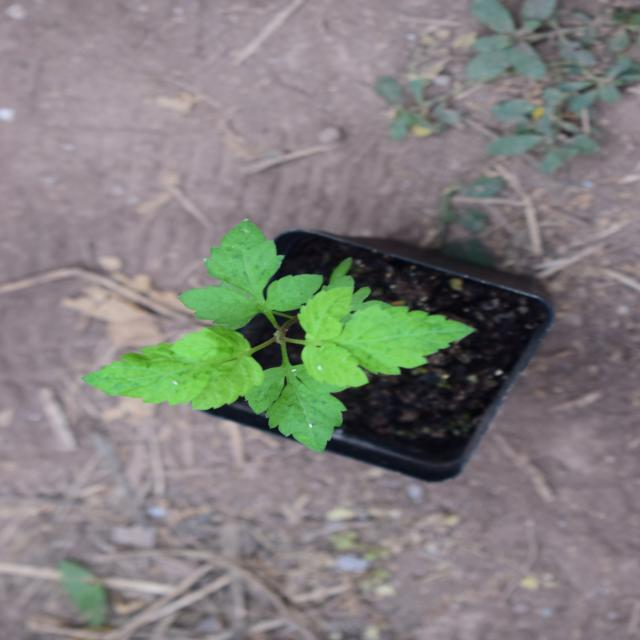Bidens pilosa: (188, 86, 411, 462)
